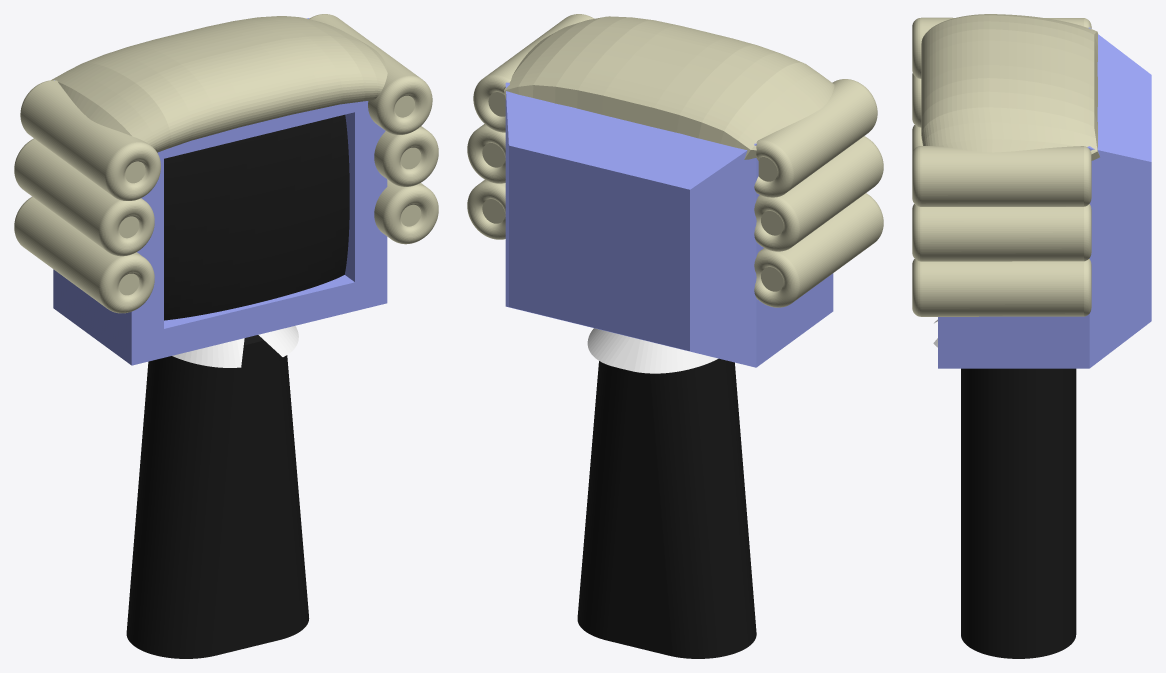
Rendered from judge.glb.
The picture shows the model from 3 angles, left to right: view 1: azimuth 30°, elevation 25°; view 2: azimuth 150°, elevation 25°; view 3: azimuth 270°, elevation 25°; orthographic projection. The views are drawn at different scales.
Parts seen in each view (by area): view 1: judge; view 2: judge; view 3: judge.
Boxes of the visible parts, box(x1,y1,x2,y2) form: judge: box(14, 14, 438, 658); judge: box(467, 14, 883, 658); judge: box(912, 14, 1151, 658).
Bounding box in the file's own units: 3.11 × 5.15 × 1.97.
